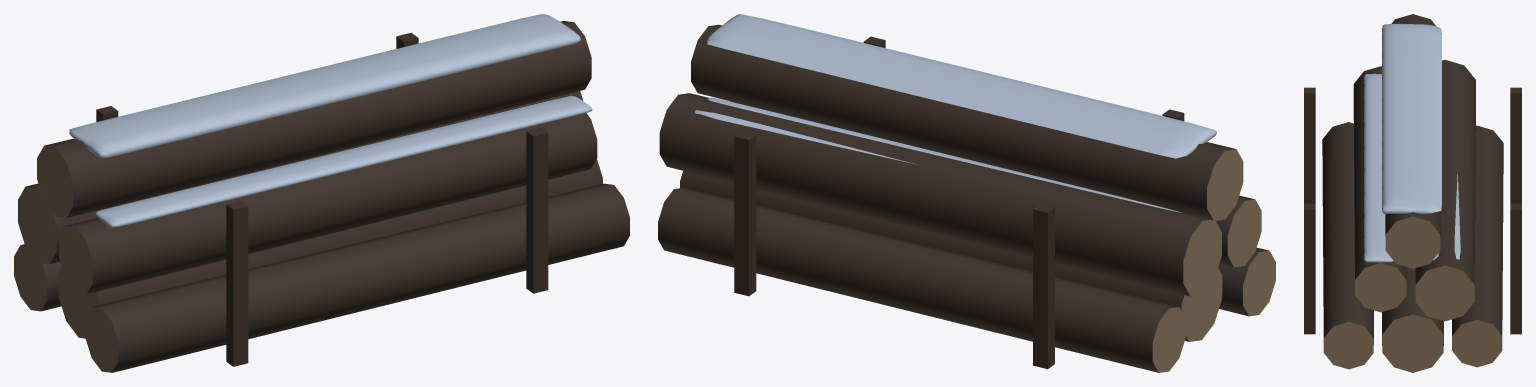
The model's file is log_pile.glb.
3 renders of one model, left to right at view 1: azimuth 30°, elevation 25°; view 2: azimuth 150°, elevation 25°; view 3: azimuth 270°, elevation 25°, orthographic. The views are drawn at different scales.
Parts seen in each view (by area): view 1: Prop; view 2: Prop; view 3: Prop.
Part boxes in pixels (x1,y1,x2,y2): Prop: (14, 14, 629, 372); Prop: (658, 14, 1275, 372); Prop: (1304, 14, 1521, 372).
Bounding box in the file's own units: 4.23 × 1.53 × 1.9.
